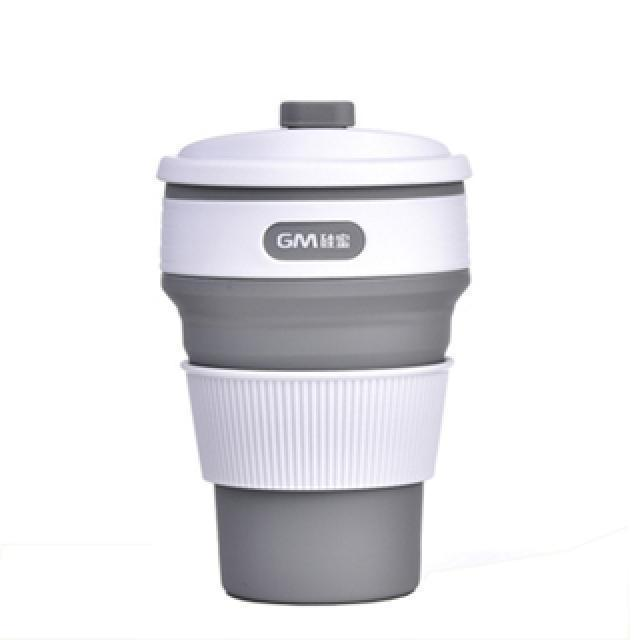Plastic: (157, 97, 474, 607)
